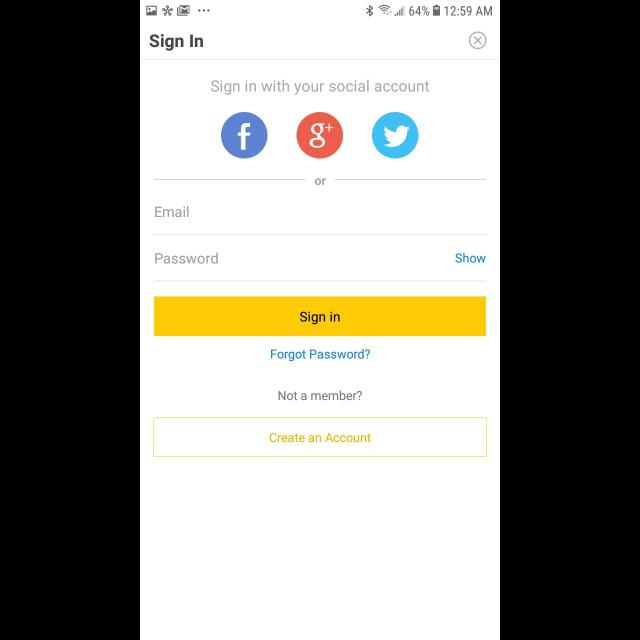icon: (220, 112, 268, 160), (296, 112, 344, 160), (372, 112, 420, 160), (469, 32, 487, 50)
input: (154, 252, 486, 282), (154, 207, 486, 236)
text: (211, 80, 429, 96), (272, 348, 371, 362), (149, 34, 203, 51), (278, 390, 362, 400), (156, 252, 218, 264), (155, 206, 189, 218), (454, 253, 486, 263), (316, 178, 326, 186)
textbutton: (153, 418, 487, 458), (154, 296, 486, 336)
uppertaskbar: (140, 1, 500, 18)
